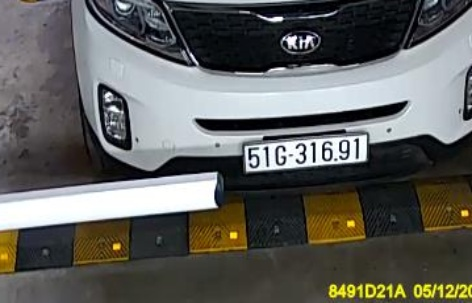plate: (240, 133, 374, 169)
